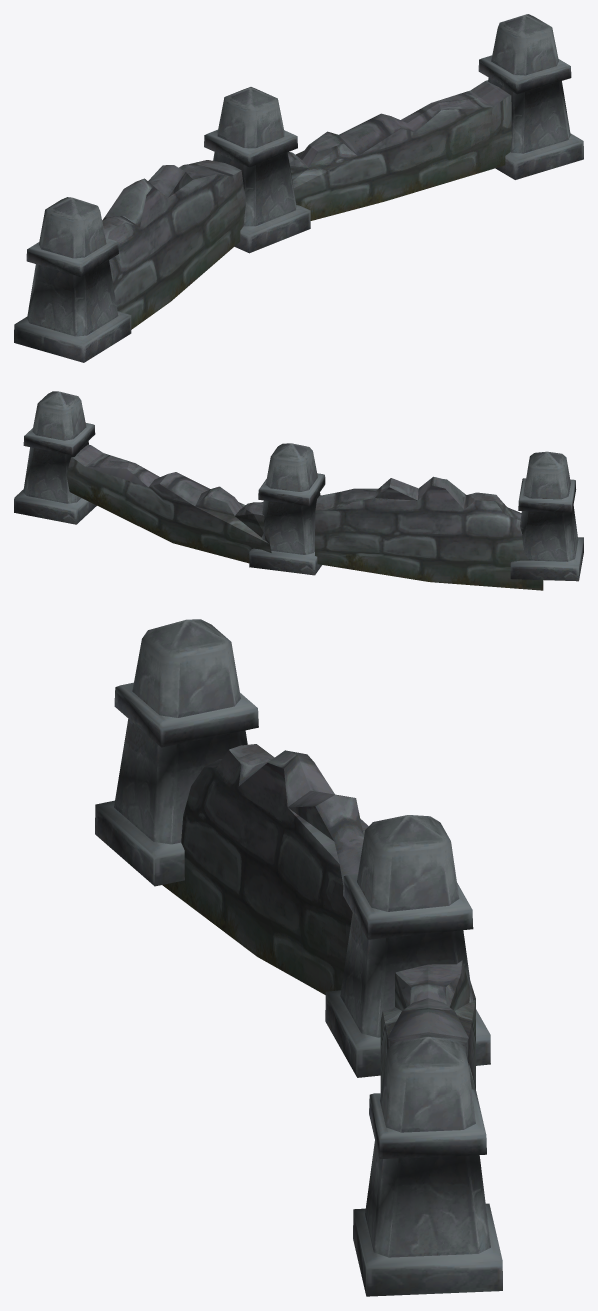
File: menu_object_stonewalls.fbx
3 views of the same model, one above another, from view 1: azimuth 30°, elevation 25°; view 2: azimuth 150°, elevation 25°; view 3: azimuth 270°, elevation 25° (orthographic). The views are drawn at different scales.
Parts seen in each view (by area): view 1: menu_object_stonewalls-0; view 2: menu_object_stonewalls-0; view 3: menu_object_stonewalls-0.
Part boxes in pixels (left/top/right/bottom): menu_object_stonewalls-0: left=14, top=14, right=583, bottom=362; menu_object_stonewalls-0: left=14, top=391, right=583, bottom=590; menu_object_stonewalls-0: left=95, top=619, right=502, bottom=1296.
Bounding box in the file's own units: 10.08 × 2.44 × 3.57.
